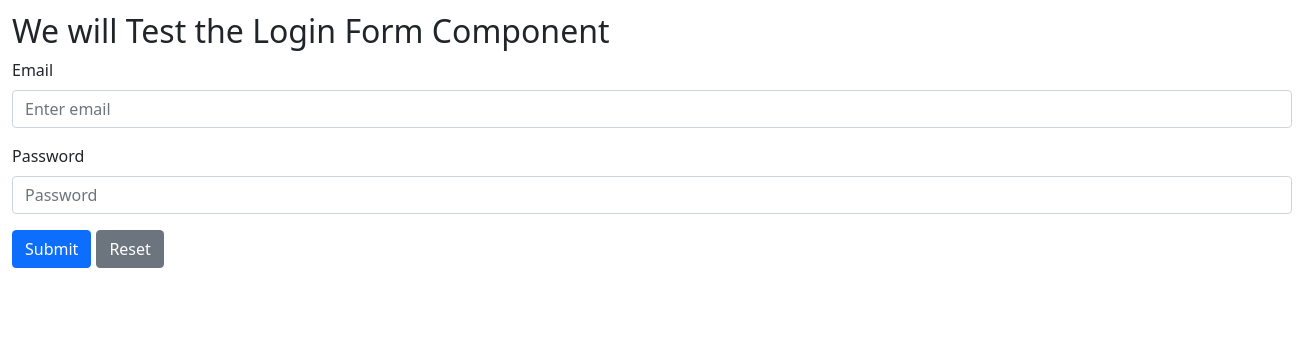
Scenario: Test the Login Component › should display error  if incorrect email address
The width and height of the screenshot is (1304, 363).
In the field with placeholder "Enter email": (652, 109) 12,90 -> 1292,128, type "sameer"
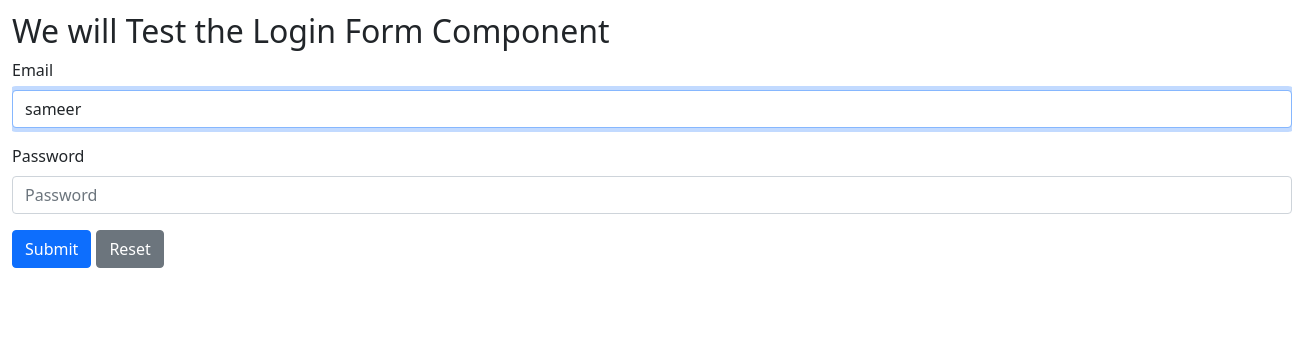
In the password field with placeholder "Password": (652, 195) 12,176 -> 1292,214, type "123456789"
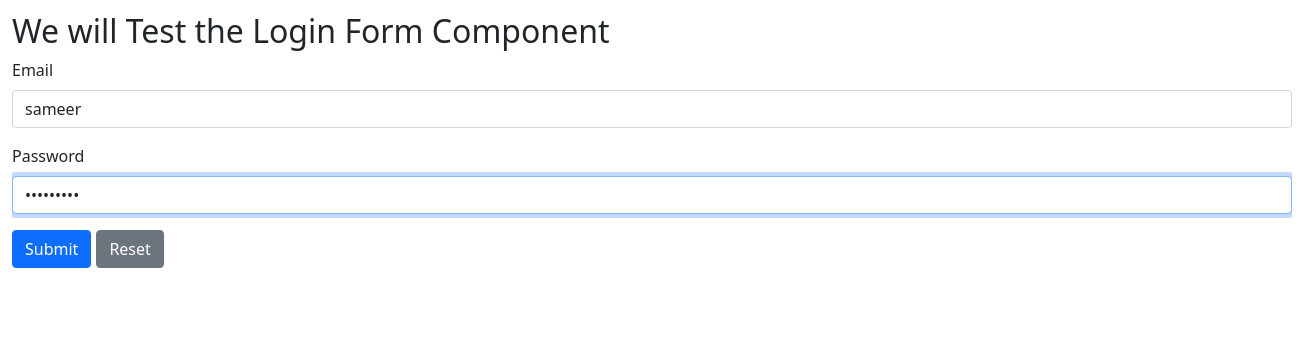
Click the button with test id "submit": (52, 249) 12,230 -> 91,268
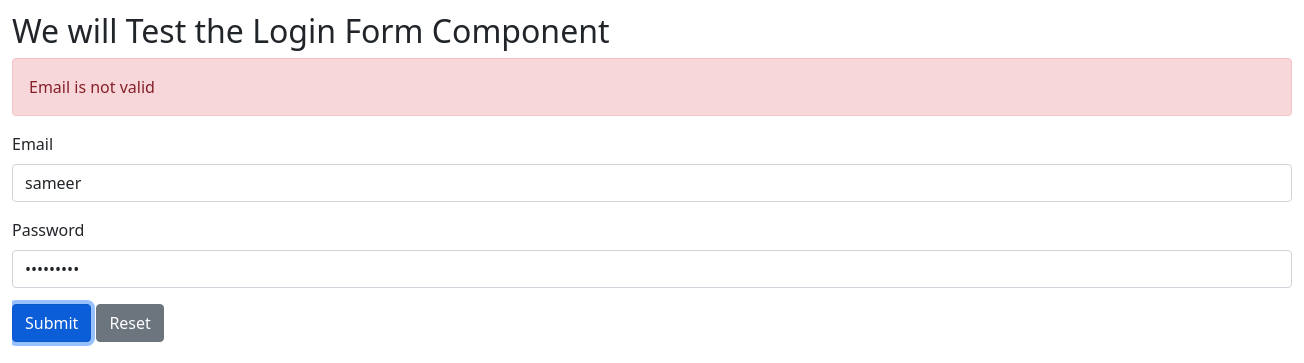
Result: the text "Email is not valid" is shown at 12,58 -> 1292,116
